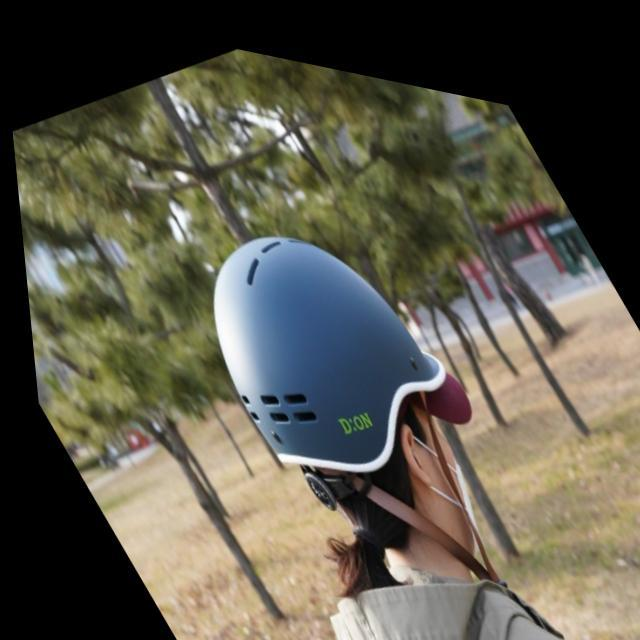Helmet: (209, 216, 515, 581)
